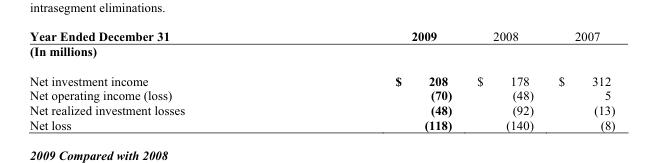table: (28, 28, 614, 131)
table column: (28, 28, 289, 131), (289, 28, 463, 131), (463, 28, 545, 131), (545, 28, 614, 131)
table column header: (28, 28, 614, 43)
table projected row header: (28, 43, 614, 65)
table row: (28, 43, 614, 65), (28, 65, 614, 87), (28, 28, 614, 43), (28, 87, 614, 102), (28, 102, 614, 117), (28, 117, 614, 131)
